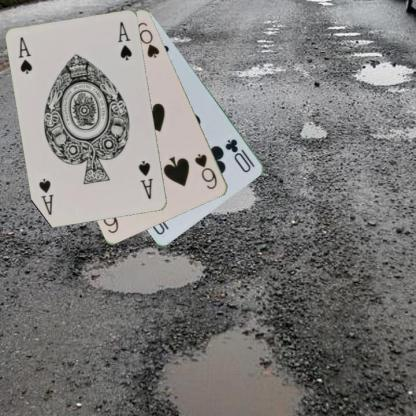10c: (223, 136, 256, 174)
6s: (192, 150, 219, 190)
As: (136, 158, 155, 201), (16, 35, 34, 76)
